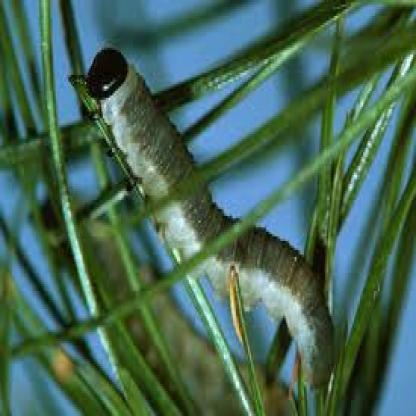sawfly: (87, 43, 335, 380)
